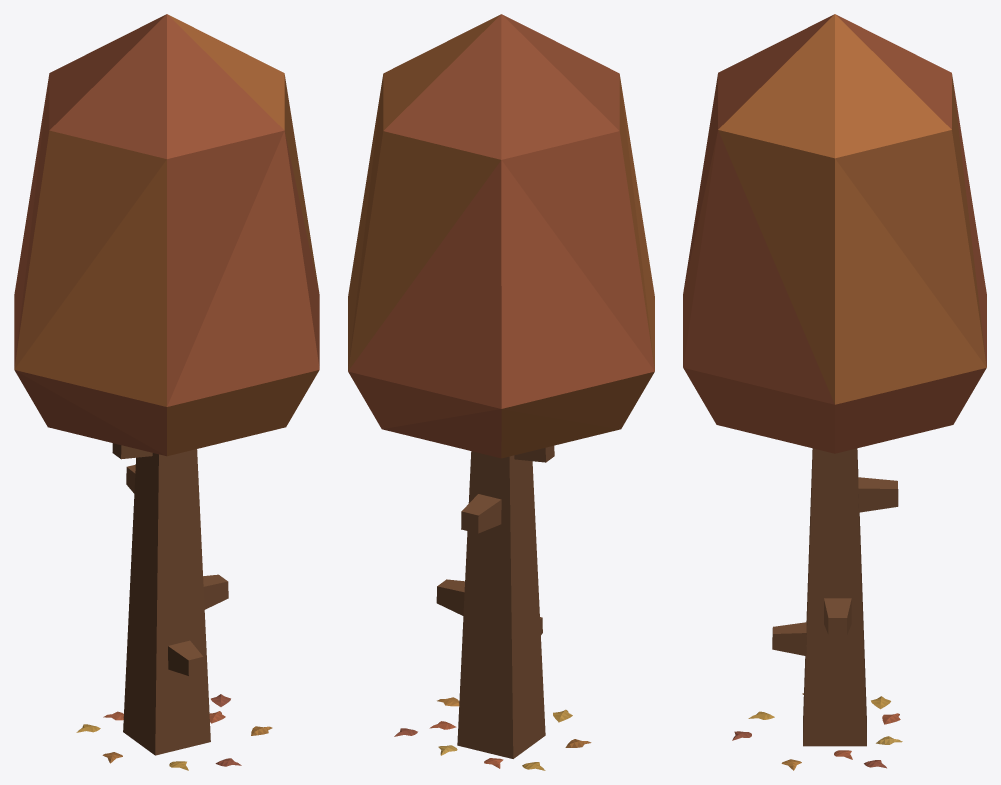
Rendered from tree_default_autumn.glb.
The picture shows the model from 3 angles, left to right: view 1: azimuth 30°, elevation 25°; view 2: azimuth 150°, elevation 25°; view 3: azimuth 270°, elevation 25°; orthographic projection.
Parts seen in each view (by area): view 1: geometry; view 2: geometry; view 3: geometry.
Part boxes in pixels (<box>): geometry: <box>14,14,319,770</box>; geometry: <box>348,14,654,770</box>; geometry: <box>683,14,986,770</box>.
Bounding box in the file's own units: 0.755 × 1.71 × 0.6538.
